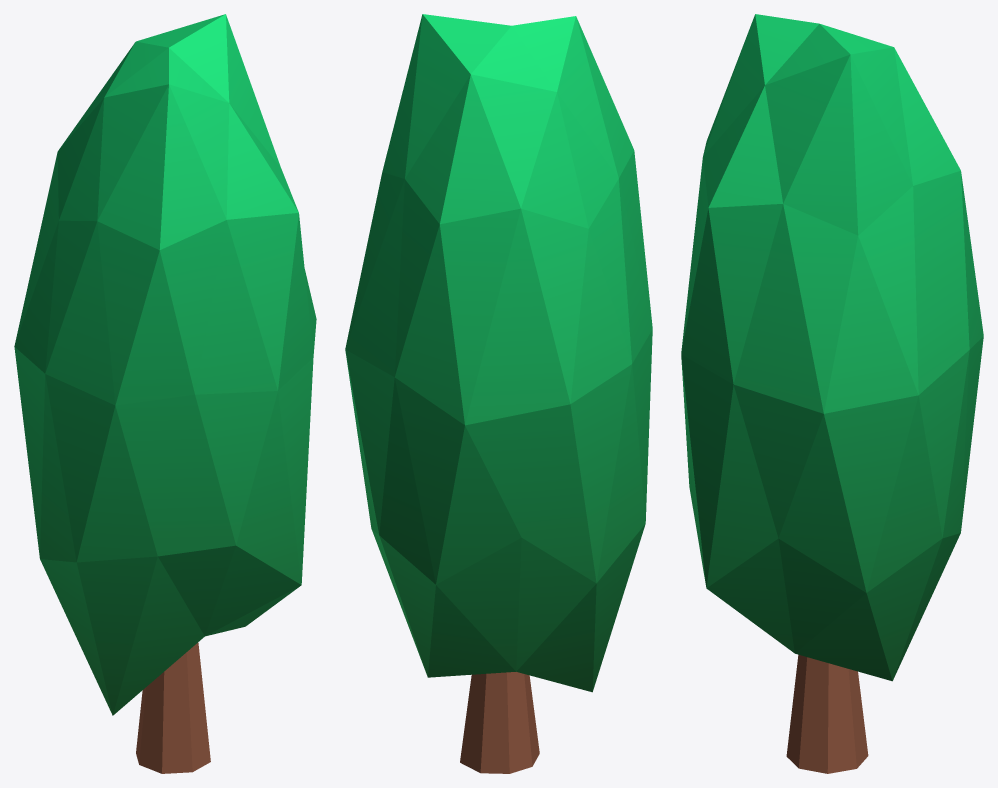
Rendered from Tree_05_gradient_green.fbx.
3 views of the same model, side by side, from view 1: azimuth 30°, elevation 25°; view 2: azimuth 150°, elevation 25°; view 3: azimuth 270°, elevation 25° (orthographic). The views are drawn at different scales.
Parts seen in each view (by area): view 1: Tree_05_gradient_green; view 2: Tree_05_gradient_green; view 3: Tree_05_gradient_green.
Boxes of the visible parts, bbox=[...] form: Tree_05_gradient_green: bbox=[14, 14, 316, 773]; Tree_05_gradient_green: bbox=[345, 14, 652, 773]; Tree_05_gradient_green: bbox=[681, 14, 983, 773].
Bounding box in the file's own units: 104 × 266 × 99.25.
